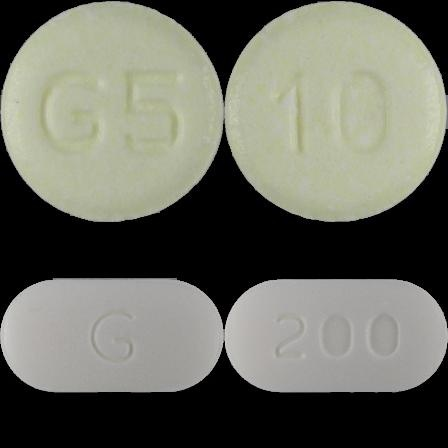68462-195: (0, 0, 224, 224)
